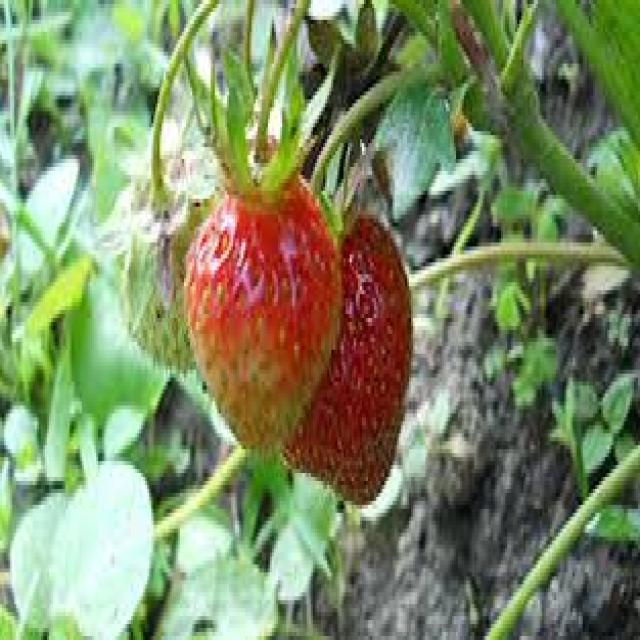Strawberries: (196, 177, 331, 453), (326, 229, 407, 504)
